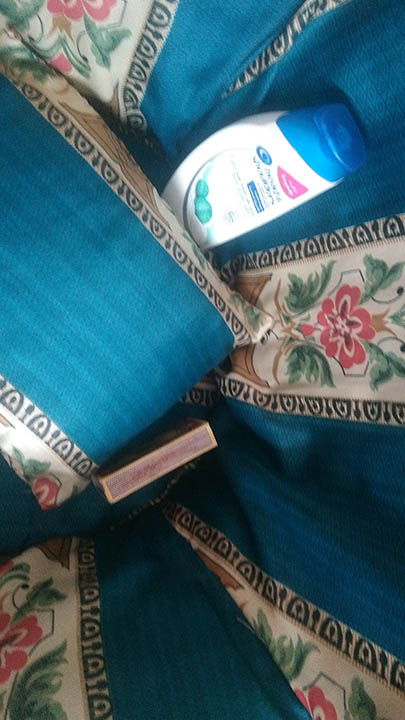match-sticks .90$: (87, 408, 219, 517)
shampoo-green 4.5$: (166, 99, 350, 256)
